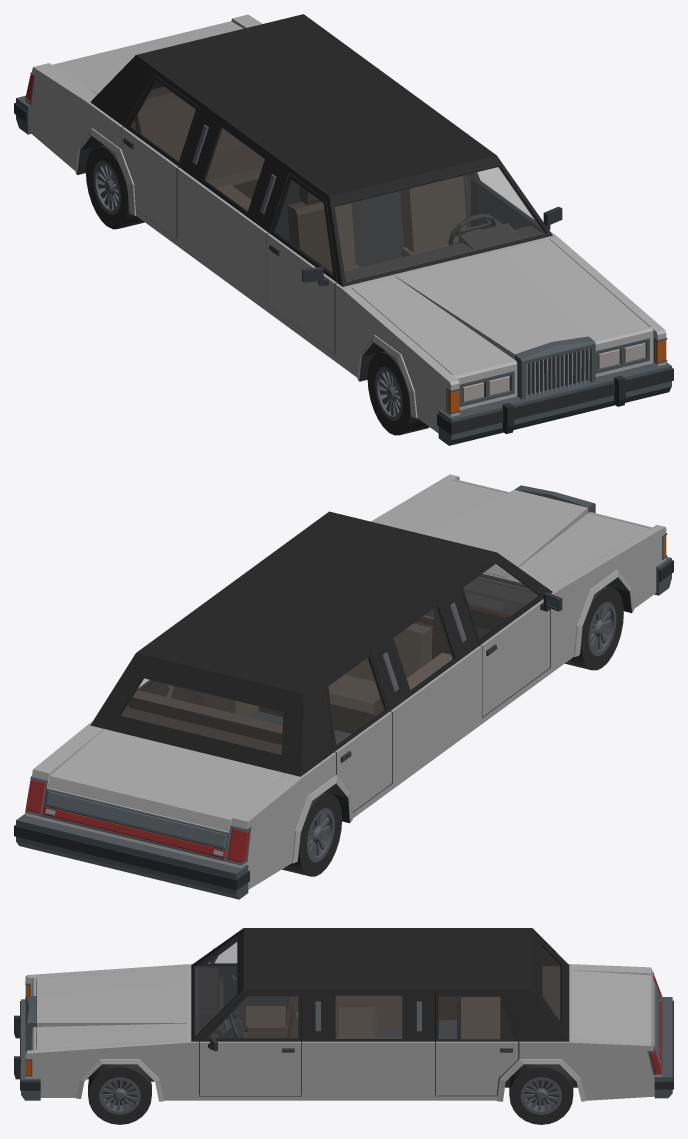
The model's file is 35_LIMOUSINE.glb.
3 renders of one model, top to bottom at view 1: azimuth 30°, elevation 25°; view 2: azimuth 150°, elevation 25°; view 3: azimuth 270°, elevation 25°, orthographic. The views are drawn at different scales.
Visible parts, largest first — view 1: limo, INTERIOR.018, WINDOWS, DOOR_1R, DOOR_2R, WHEEL_1R.005, WIN_DOOR_2R, WHEEL_2R.005, WIN_DOOR_1R, DOOR_1L, WIN_DOOR_1R.001; view 2: limo, INTERIOR.018, WINDOWS, DOOR_1R, DOOR_2R, WHEEL_2R.005, WIN_DOOR_2R, WIN_DOOR_1R, WHEEL_1R.005; view 3: limo, INTERIOR.018, DOOR_1L, WINDOWS, DOOR_2L, WHEEL_2L.006, WHEEL_1L.005, WIN_DOOR_1R.001, WIN_DOOR_2L, DOOR_1R, DOOR_2R, WIN_DOOR_1R.
Part boxes in pixels (box(x1,y1,x2,y2)): limo: box(14, 14, 673, 445); INTERIOR.018: box(133, 93, 542, 281); WINDOWS: box(204, 128, 544, 281); DOOR_1R: box(267, 173, 337, 354); DOOR_2R: box(121, 74, 199, 238); WHEEL_1R.005: box(367, 351, 429, 435); WIN_DOOR_2R: box(130, 81, 195, 161); WHEEL_2R.005: box(86, 145, 144, 229); WIN_DOOR_1R: box(275, 180, 332, 272); DOOR_1L: box(473, 167, 562, 232); WIN_DOOR_1R.001: box(475, 168, 536, 223); limo: box(14, 474, 673, 899); INTERIOR.018: box(128, 578, 538, 744); WINDOWS: box(120, 564, 522, 754); DOOR_1R: box(459, 558, 562, 716); DOOR_2R: box(325, 651, 391, 812); WHEEL_2R.005: box(282, 792, 342, 876); WIN_DOOR_2R: box(329, 658, 384, 744); WIN_DOOR_1R: box(464, 564, 537, 637); WHEEL_1R.005: box(565, 586, 623, 670); limo: box(14, 928, 673, 1101); INTERIOR.018: box(199, 967, 513, 1039); DOOR_1L: box(199, 993, 301, 1095); WINDOWS: box(195, 936, 560, 1038); DOOR_2L: box(435, 993, 519, 1095); WHEEL_2L.006: box(509, 1064, 573, 1124); WHEEL_1L.005: box(88, 1064, 151, 1124); WIN_DOOR_1R.001: box(209, 996, 297, 1037); WIN_DOOR_2L: box(439, 996, 513, 1038); DOOR_1R: box(199, 938, 287, 1019); DOOR_2R: box(438, 996, 499, 1020); WIN_DOOR_1R: box(208, 943, 236, 963).
Size of the model in its own units: 2.22 by 1.39 by 6.55.
Materials: 2 (2 with a texture image).
